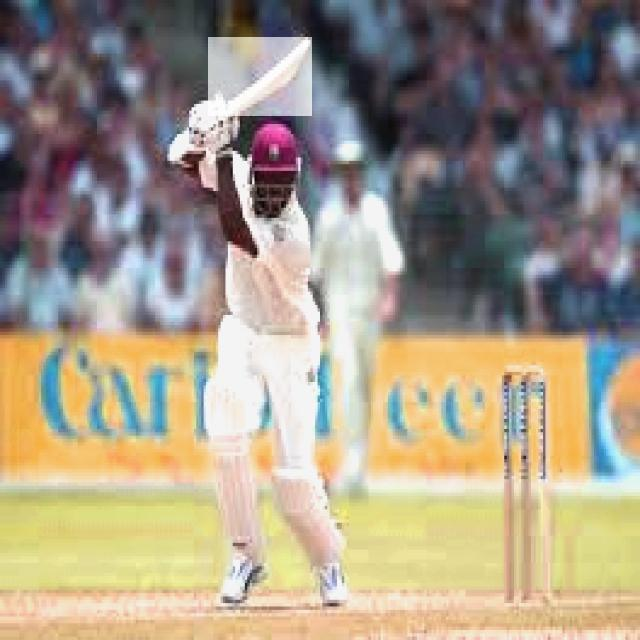bat: (210, 36, 315, 117)
